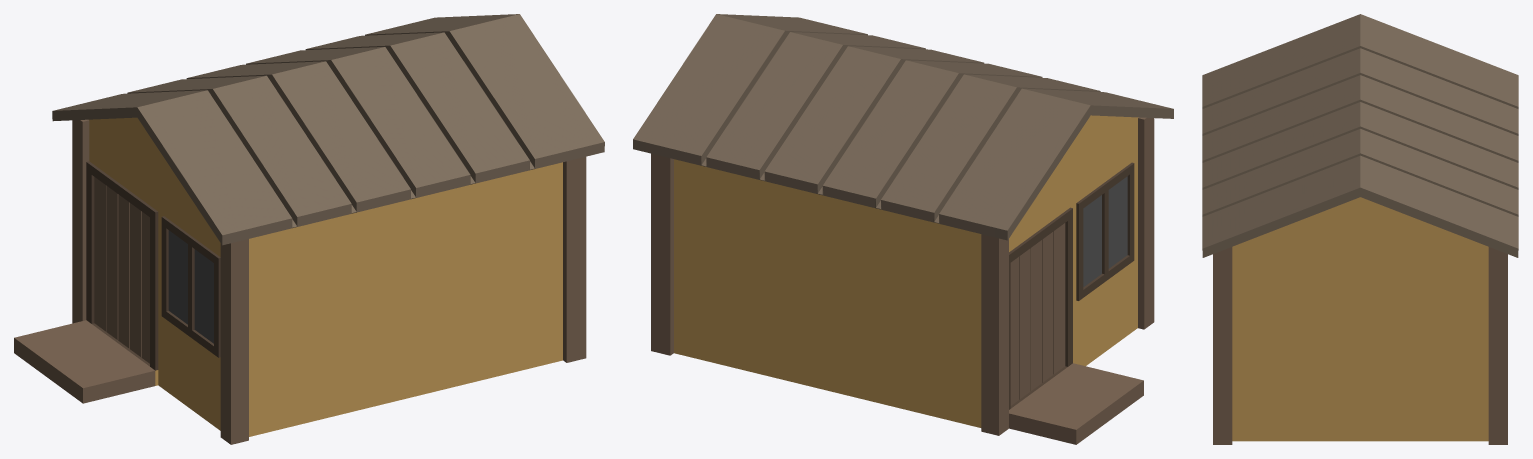
The model's file is booth_04.fbx.
3 views of the same model, side by side, from view 1: azimuth 30°, elevation 25°; view 2: azimuth 150°, elevation 25°; view 3: azimuth 270°, elevation 25° (orthographic). The views are drawn at different scales.
Parts seen in each view (by area): view 1: booth_04; view 2: booth_04; view 3: booth_04.
Part boxes in pixels (x1=…): booth_04: x1=14, y1=14, x2=604, y2=444; booth_04: x1=633, y1=14, x2=1173, y2=444; booth_04: x1=1202, y1=14, x2=1518, y2=444.
Bounding box in the file's own units: 7.18 × 4.84 × 4.45.
